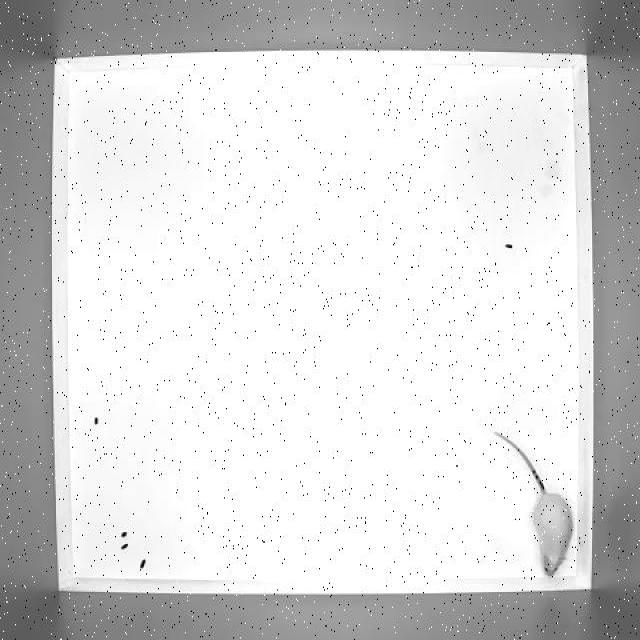rat: (494, 431, 574, 578)
